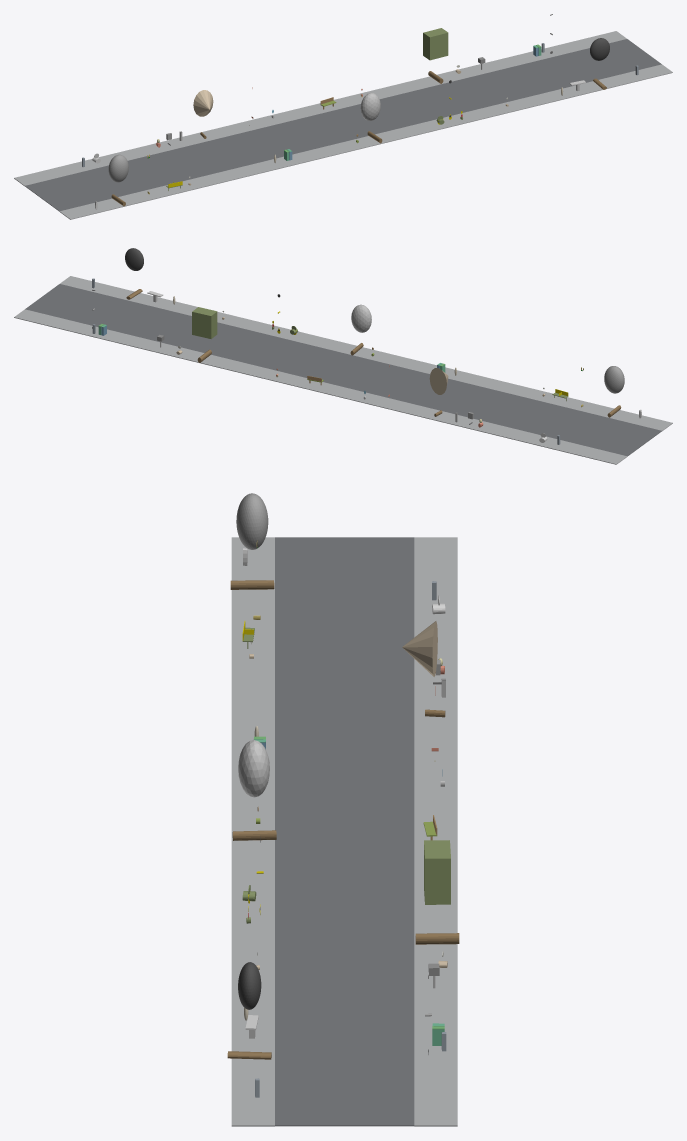
The picture shows the model from 3 angles, top to bottom: view 1: azimuth 30°, elevation 25°; view 2: azimuth 150°, elevation 25°; view 3: azimuth 270°, elevation 25°; orthographic projection. The views are drawn at different scales.
Parts seen in each view (by area): view 1: road_slab, sidewalk_left, sidewalk_right, inst_0015, inst_0014, inst_0012, inst_0013, inst_0016; view 2: road_slab, sidewalk_right, sidewalk_left, inst_0015, inst_0012, inst_0014, inst_0016, inst_0013; view 3: road_slab, sidewalk_right, sidewalk_left, inst_0015, inst_0014, inst_0012, inst_0016, inst_0013.
Boxes of the visible parts, x1,y1,x2,y2 form: road_slab: [25, 39, 661, 211]; sidewalk_left: [59, 64, 672, 219]; sidewalk_right: [14, 31, 626, 186]; inst_0015: [423, 28, 448, 83]; inst_0014: [360, 93, 382, 143]; inst_0012: [108, 154, 128, 206]; inst_0013: [193, 90, 213, 138]; inst_0016: [590, 38, 609, 89]; road_slab: [25, 284, 661, 456]; sidewalk_right: [14, 309, 627, 464]; sidewalk_left: [60, 276, 672, 431]; inst_0015: [192, 307, 217, 362]; inst_0012: [604, 366, 624, 417]; inst_0014: [350, 304, 371, 355]; inst_0016: [125, 248, 143, 299]; inst_0013: [429, 368, 448, 416]; road_slab: [275, 537, 414, 1126]; sidewalk_right: [414, 537, 457, 1126]; sidewalk_left: [231, 537, 274, 1126]; inst_0015: [415, 840, 459, 944]; inst_0014: [232, 740, 276, 840]; inst_0012: [230, 493, 274, 589]; inst_0016: [227, 962, 271, 1059]; inst_0013: [402, 621, 445, 717].
Size of the model in its own units: 80 by 6.08 by 13.32.
